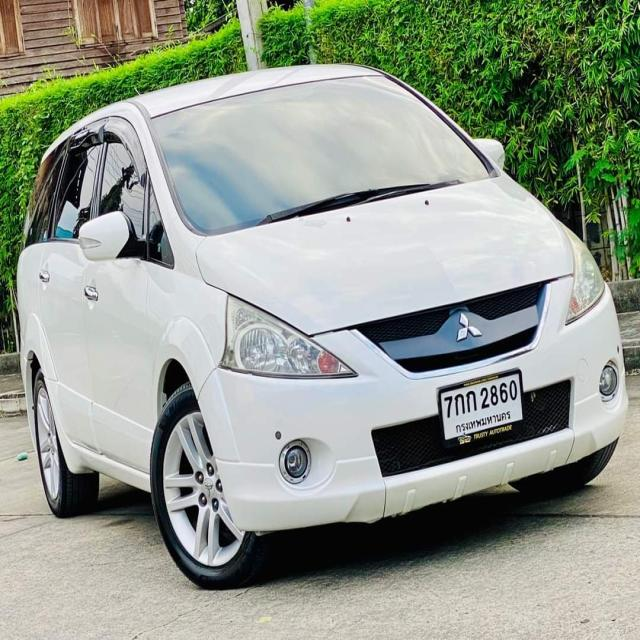license_plate: (438, 365, 528, 445)
